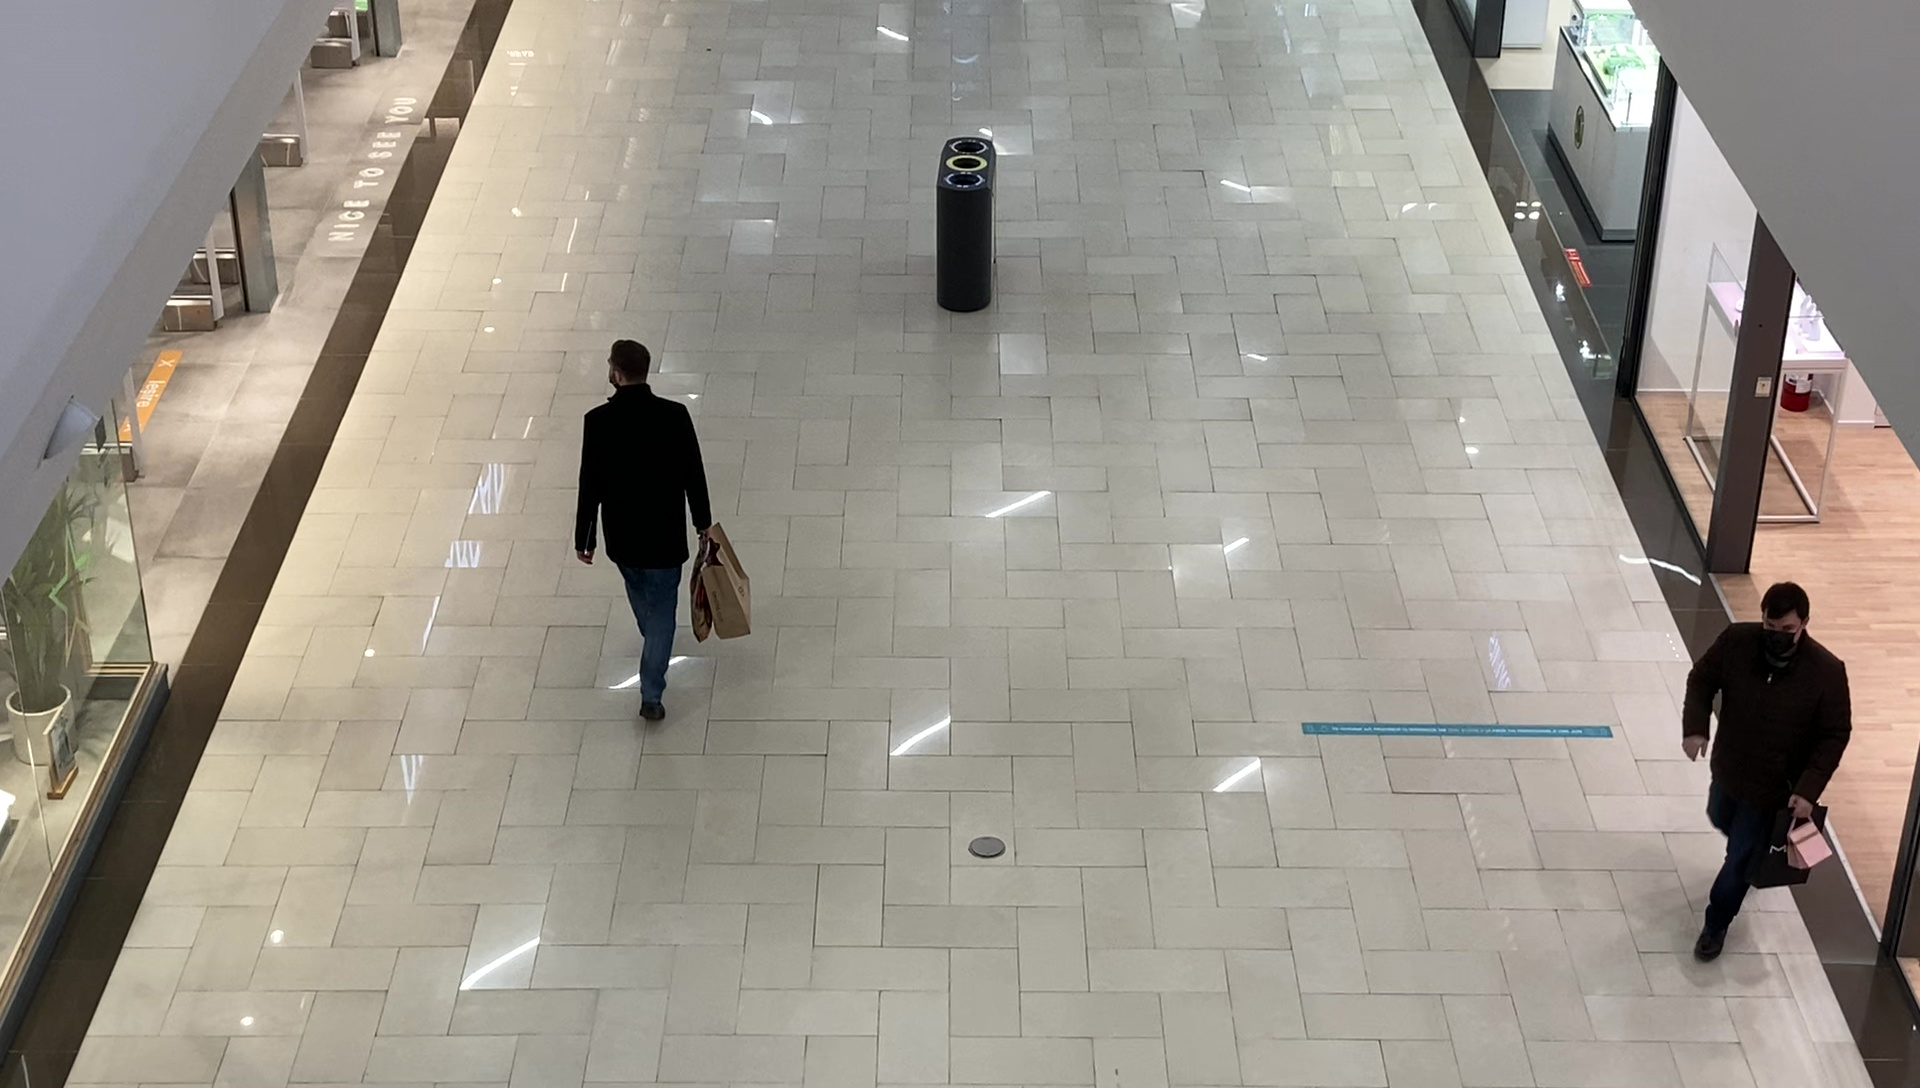person: (1684, 582, 1856, 964), (575, 340, 713, 726)
